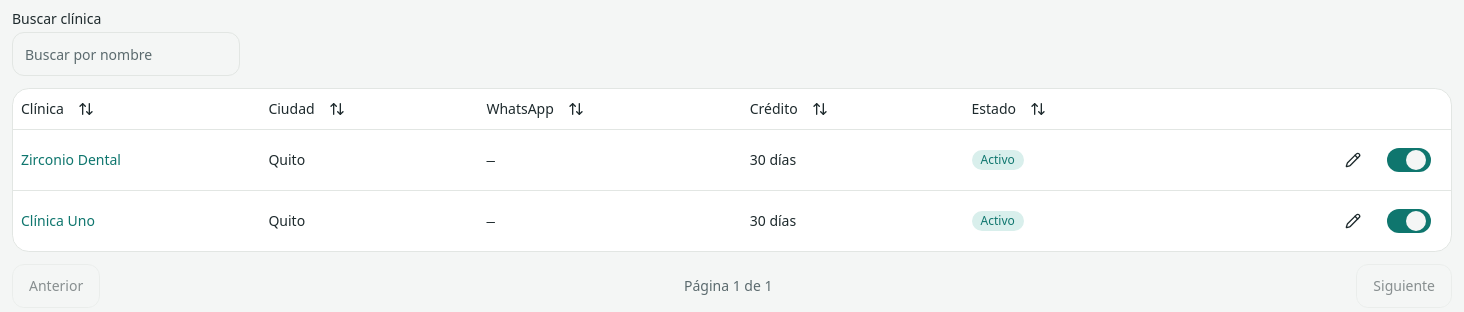
Test case: ClinicsTable › filtra por nombre al escribir, insensible a mayúsculas y acentos
The width and height of the screenshot is (1464, 312).
Type "zir" into the search field labelled "Buscar clínica" at coordinates (126, 54), box [12, 32, 240, 76]
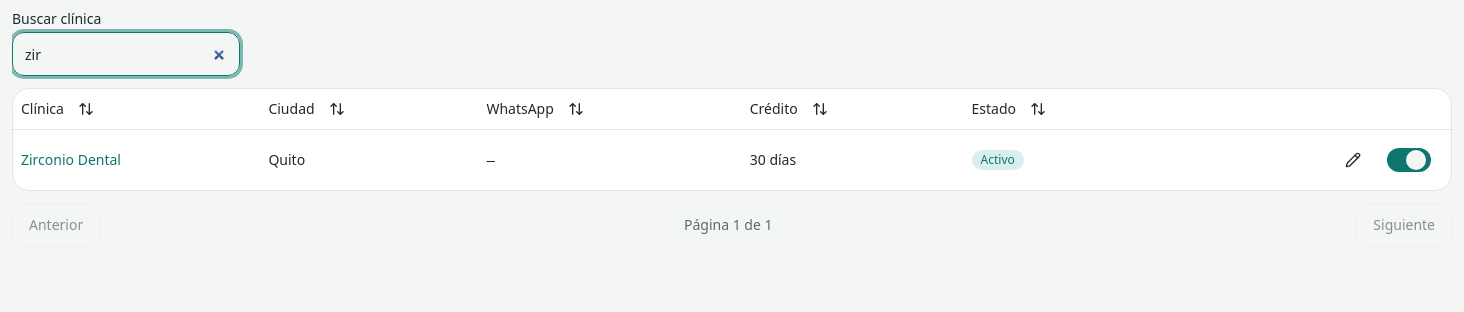
Check: the link "Zirconio Dental" is shown, box [21, 150, 121, 168]
Check: the link "Clínica Uno" is gone
